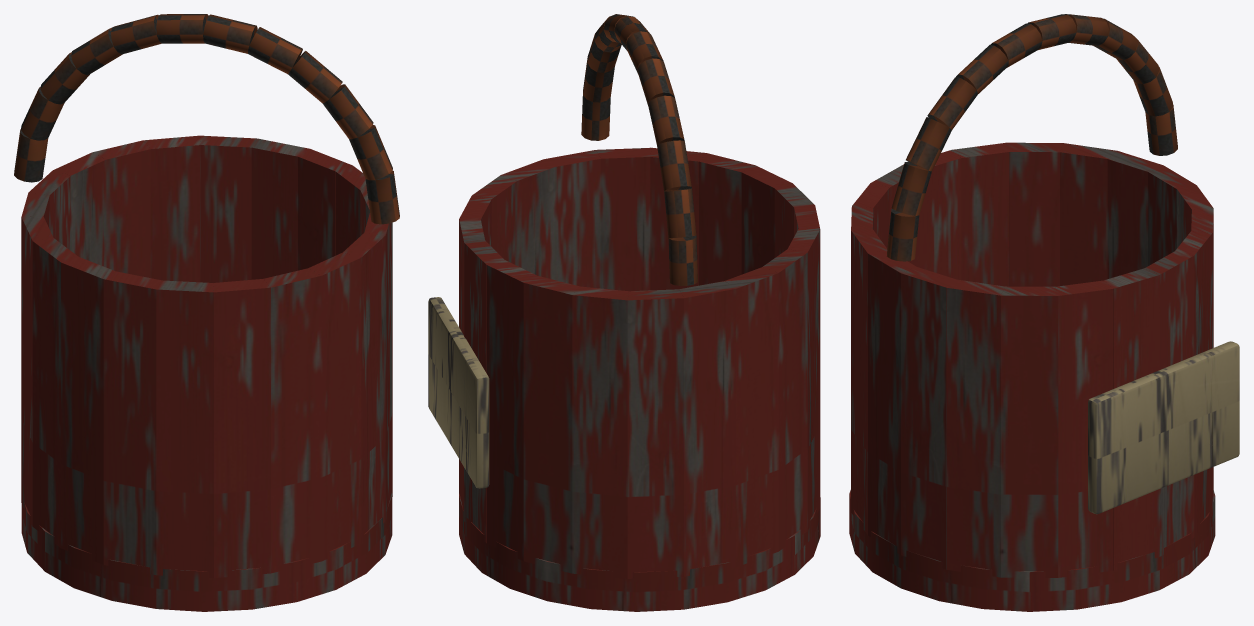
Rendered from SM_PaintCan_Open_915abff987.fbx.
The picture shows the model from 3 angles, left to right: view 1: azimuth 30°, elevation 25°; view 2: azimuth 150°, elevation 25°; view 3: azimuth 270°, elevation 25°; orthographic projection. The views are drawn at different scales.
Parts seen in each view (by area): view 1: SM_PaintCan_Open_915abff987; view 2: SM_PaintCan_Open_915abff987; view 3: SM_PaintCan_Open_915abff987.
Part boxes in pixels (left/top/right/bottom): SM_PaintCan_Open_915abff987: left=14, top=14, right=399, bottom=611; SM_PaintCan_Open_915abff987: left=428, top=14, right=820, bottom=611; SM_PaintCan_Open_915abff987: left=849, top=14, right=1239, bottom=611.
Size of what is drawn, in the model's own units: 21.41 by 21.3 by 30.79.
3 materials, 3 textured.
